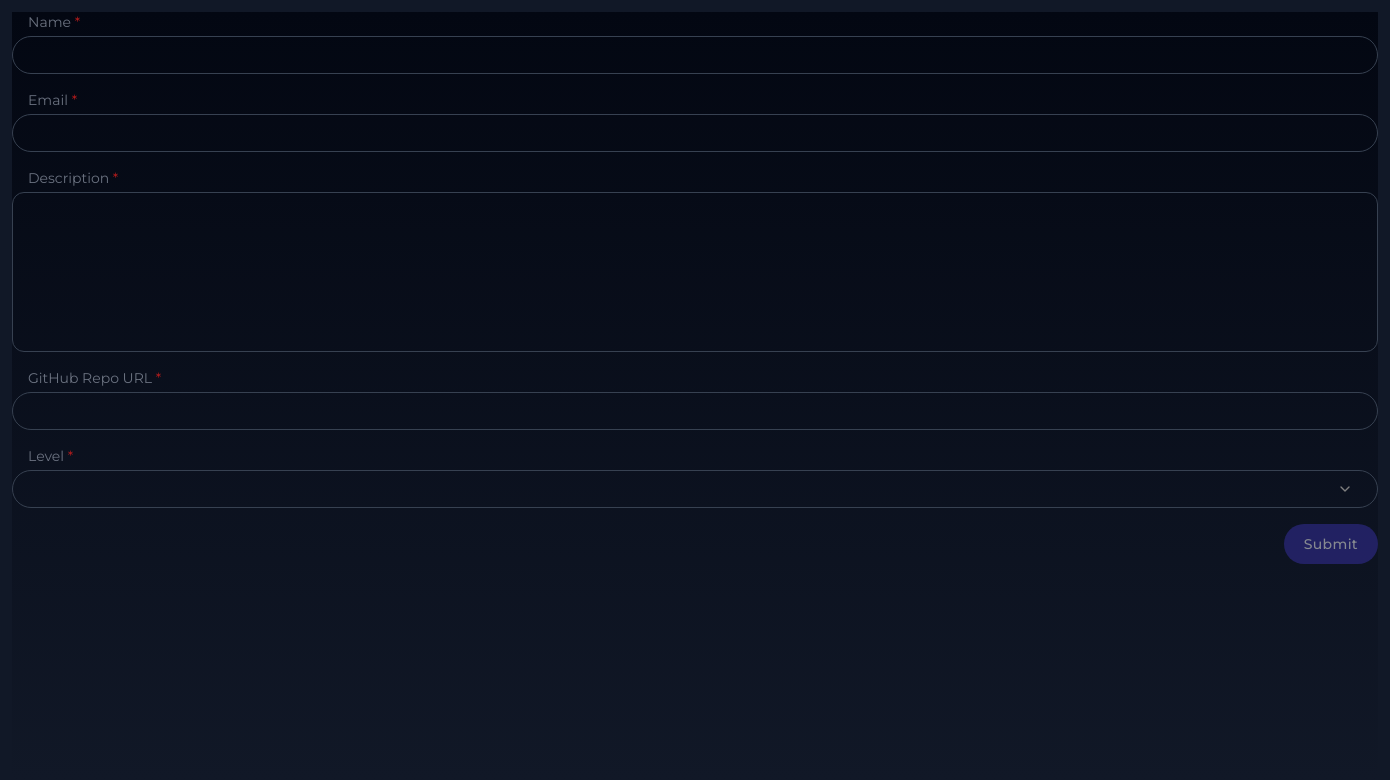
Test: Submit button › Submit button enabled when fields filled out correctly
Type "Test" into the field labelled "Name *".
click(695, 55); type("Test")  # box [12, 36, 1378, 74]
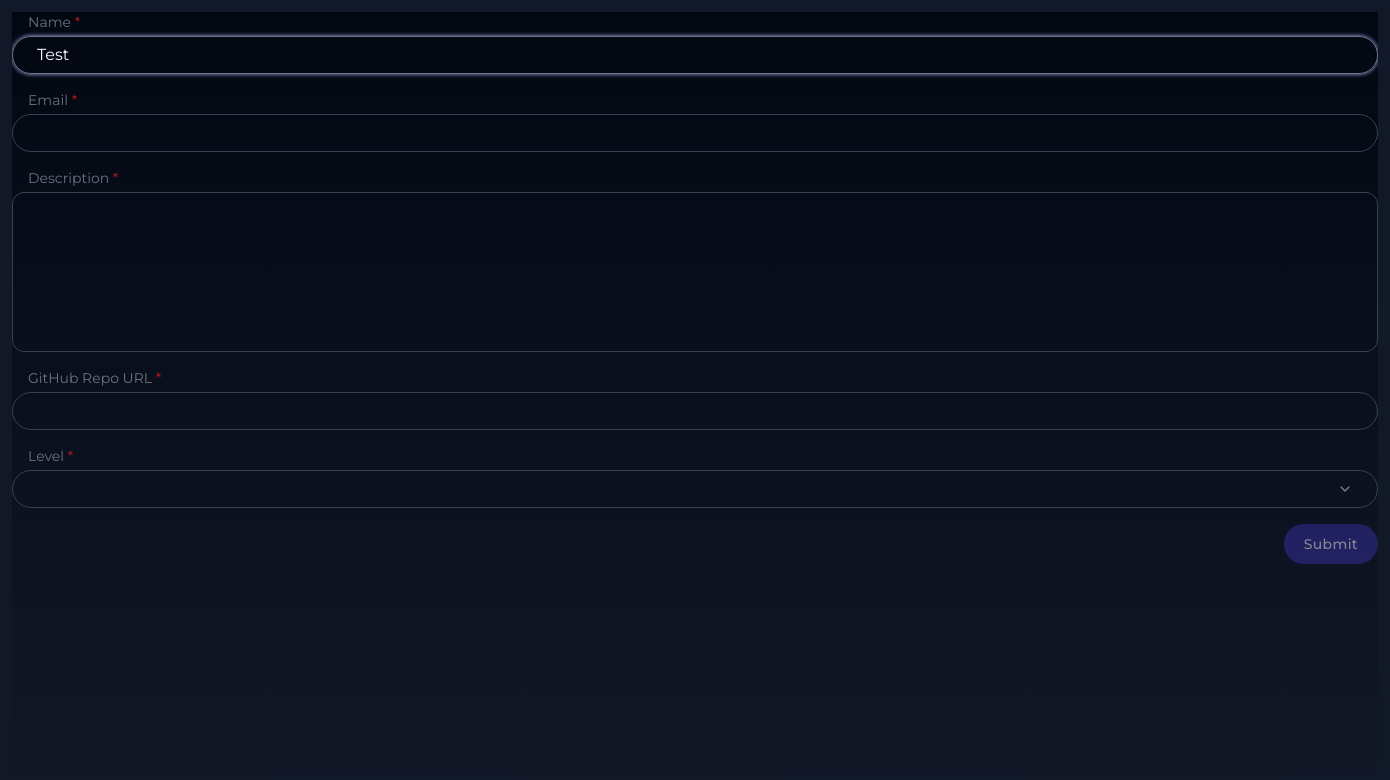
Type "test@test.io" into the field labelled "Email *".
click(695, 133); type("test@test.io")  # box [12, 114, 1378, 152]
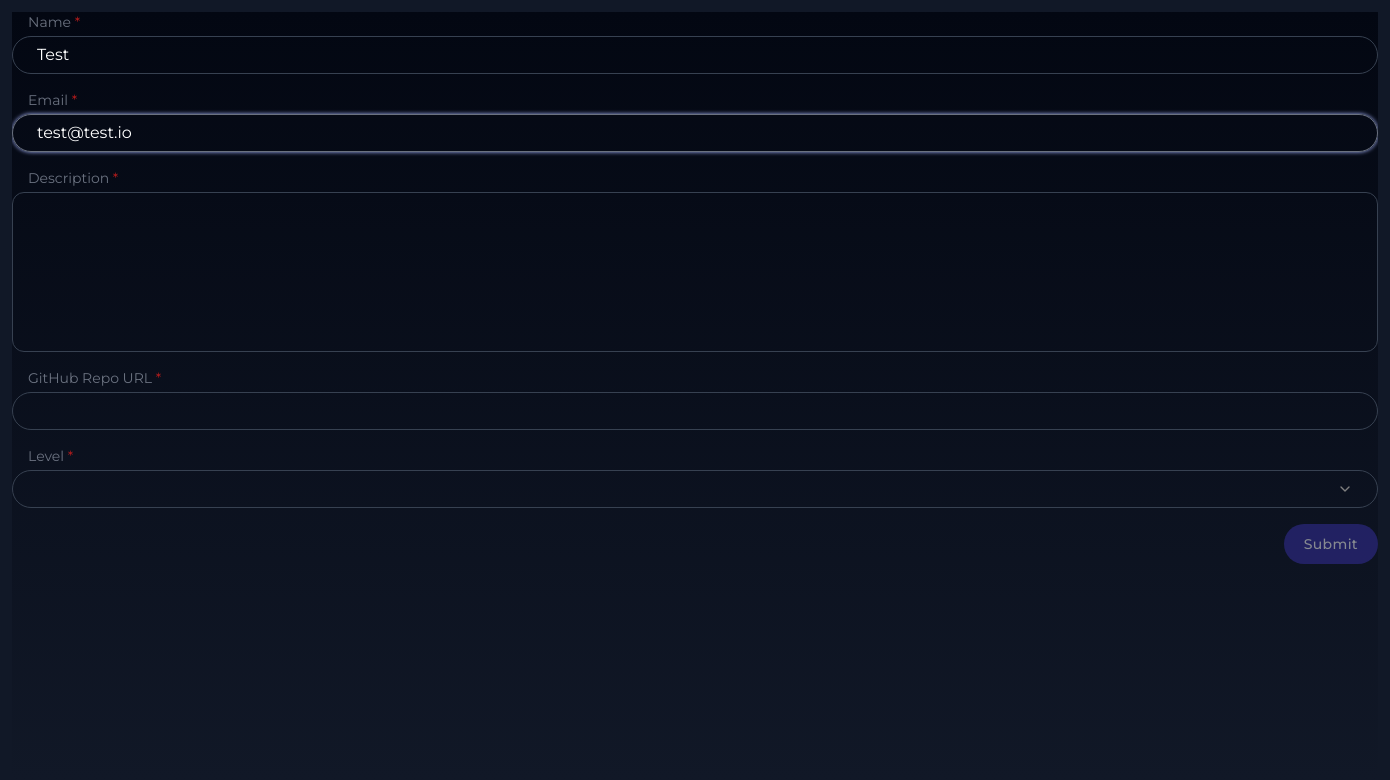
Type "Test description" into the text box labelled "Description *".
click(695, 272); type("Test description")  # box [12, 192, 1378, 352]
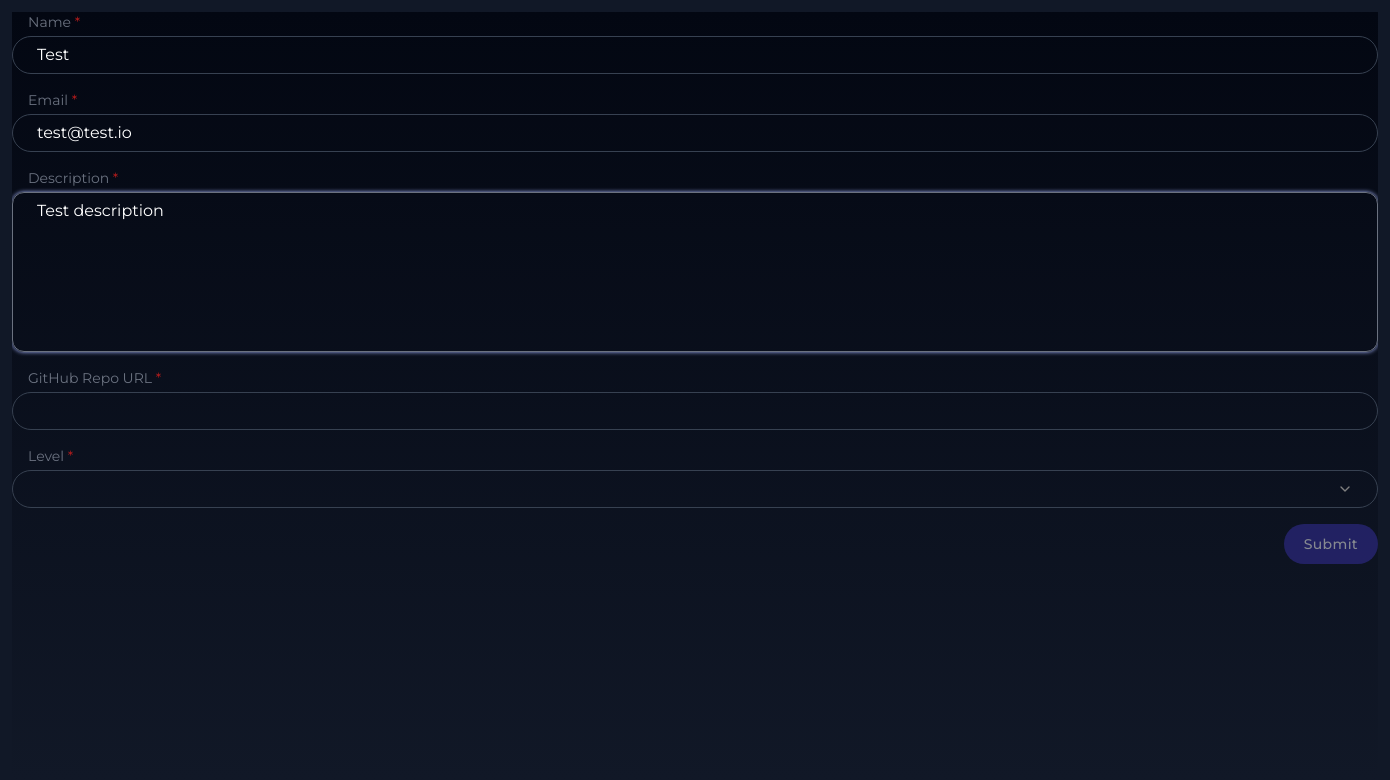
Type "https://test.io" into the field labelled "GitHub Repo URL *".
click(695, 411); type("https://test.io")  # box [12, 392, 1378, 430]
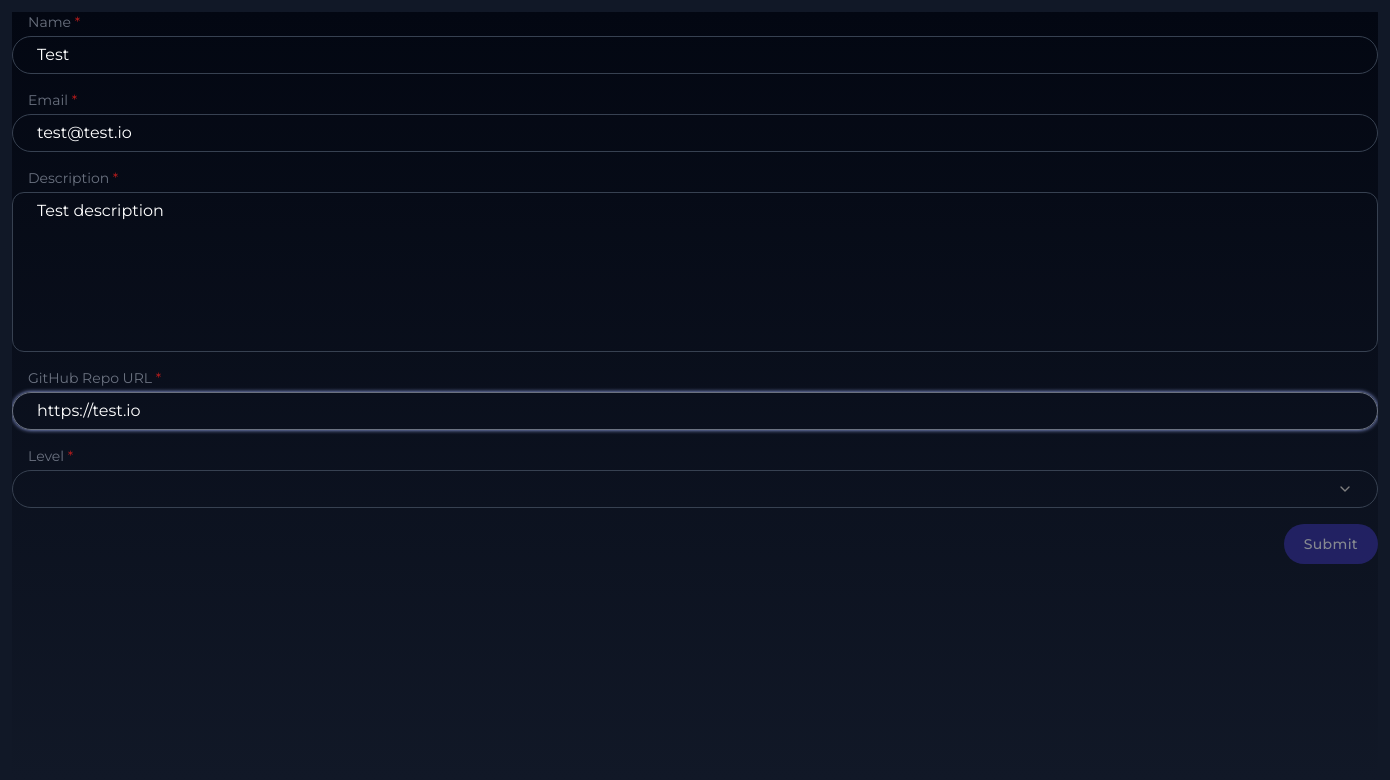
Click the button with test id "select-button".
click(1345, 489)  # box [12, 470, 1378, 508]
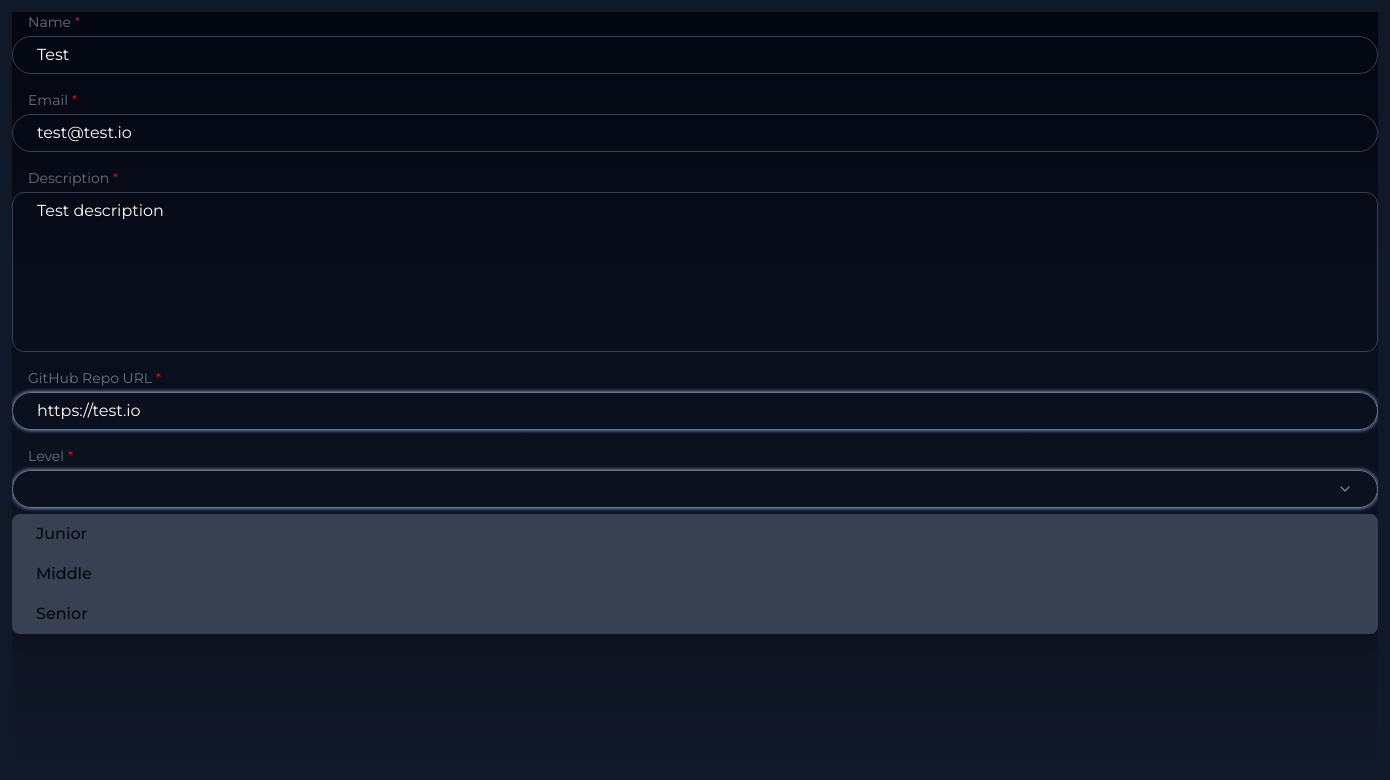
Result: the list item "Junior" is shown
Click the list item "Junior".
click(62, 534)  # box [36, 524, 87, 543]
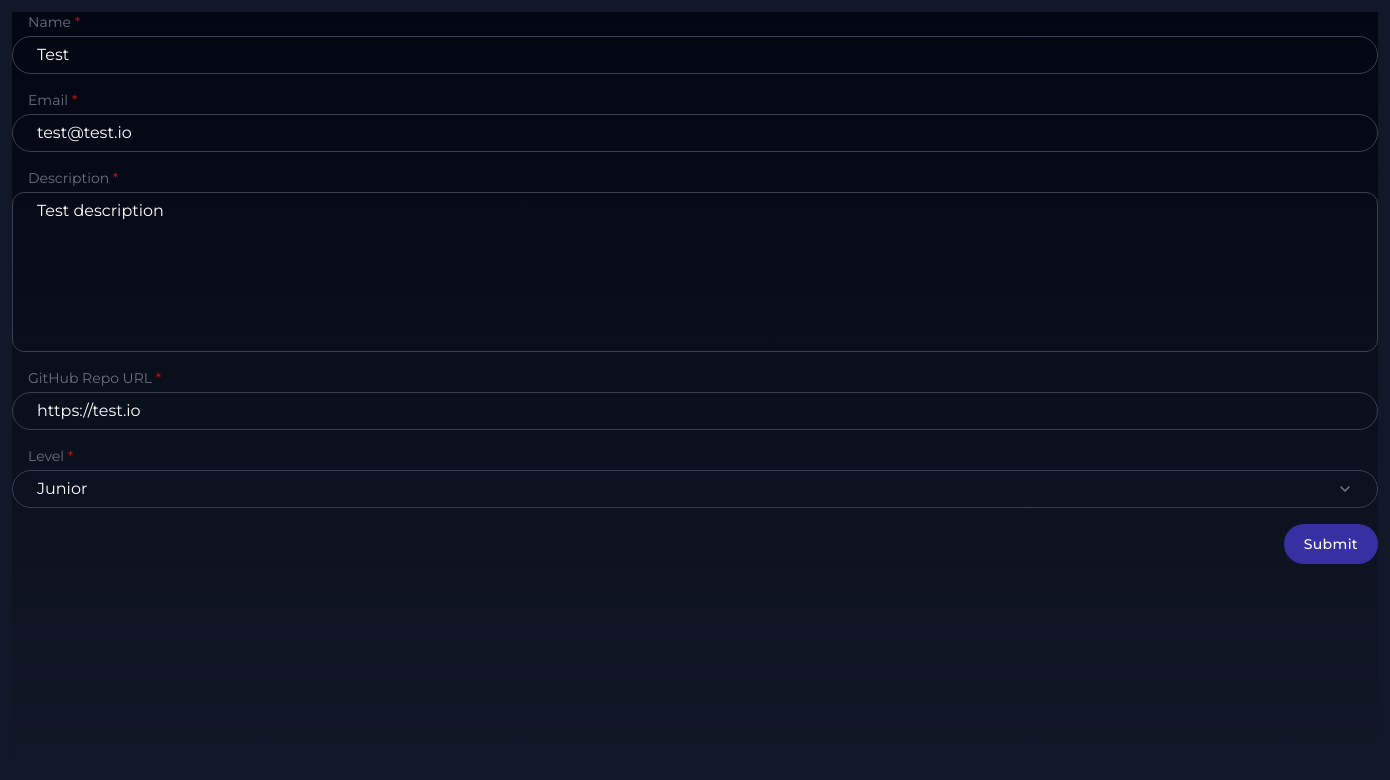
Result: the button "Submit" is enabled at [1284, 524, 1378, 564]
